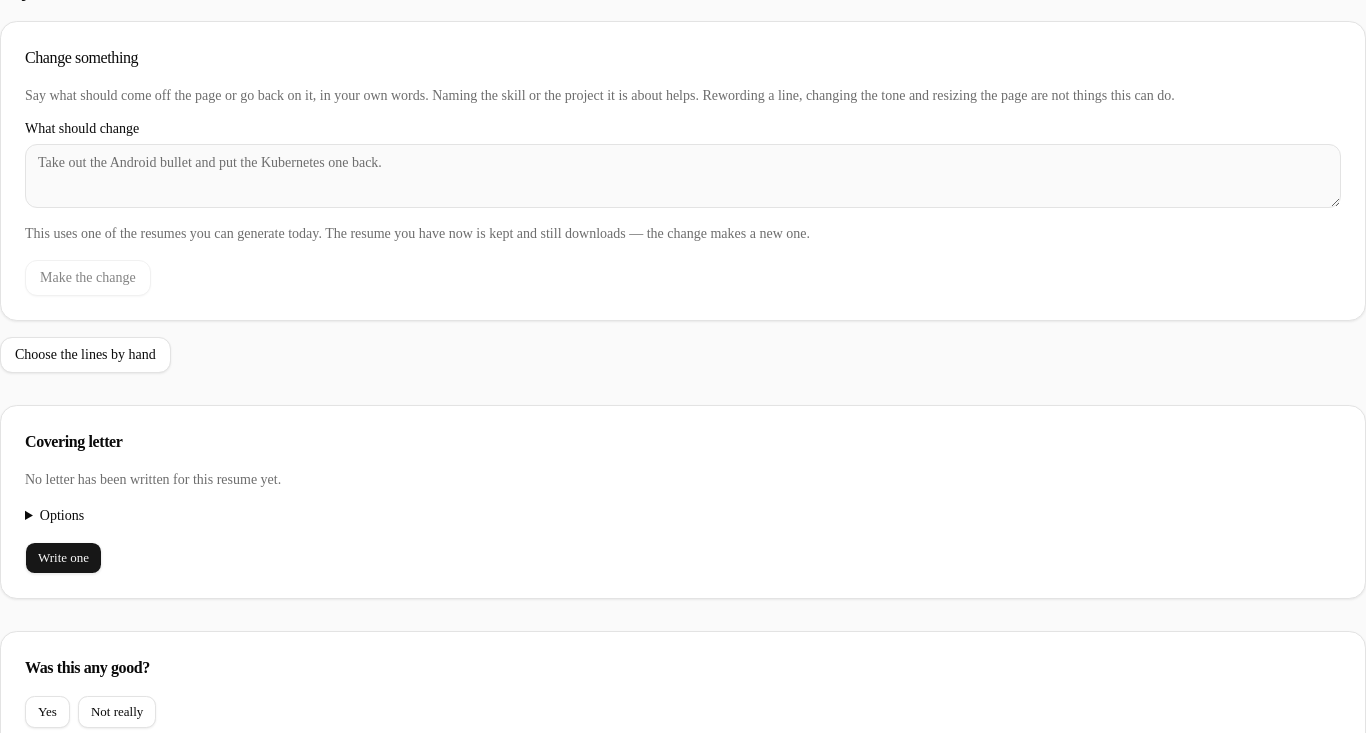
the covering letter › does not dress a refused draft up as a fault
(page scrolled)
Click the button "Write one" at (64, 558), box [25,542,102,574]
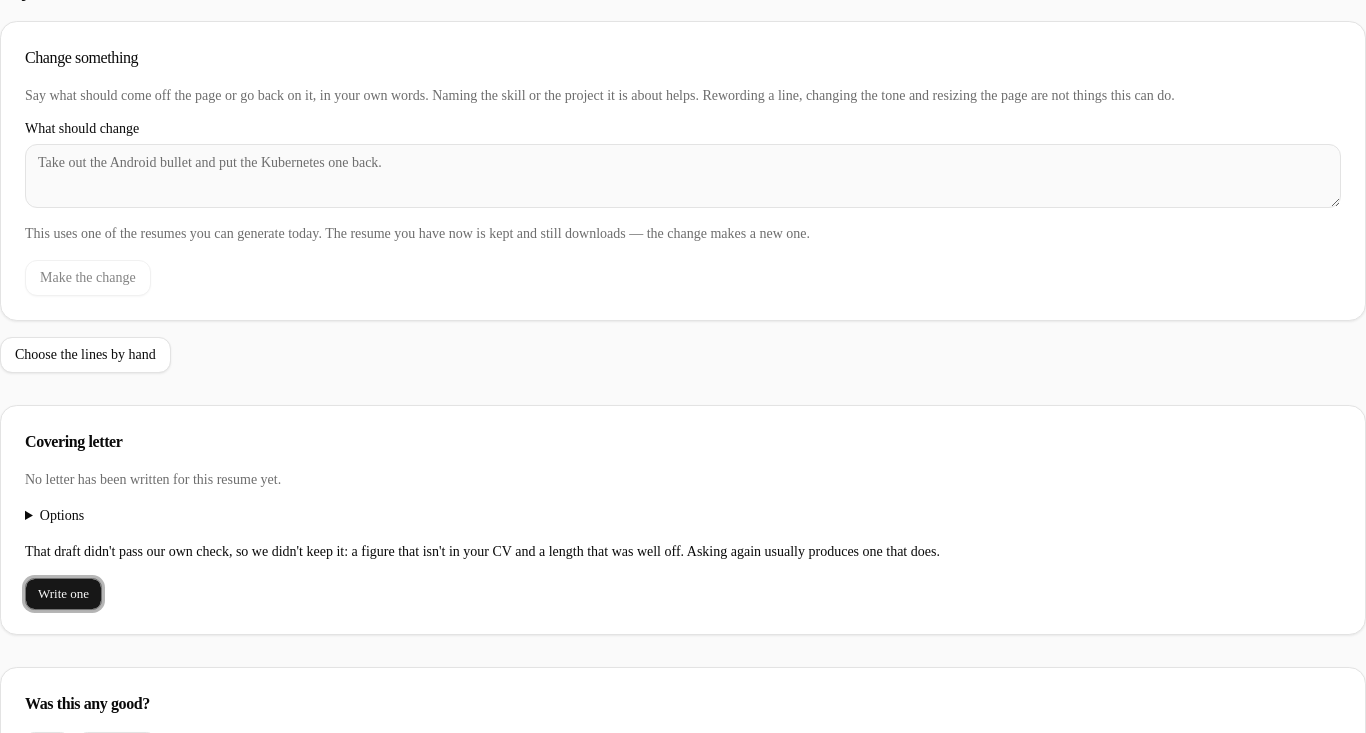
Check: the button "Write one" is shown, box [25,578,102,610]
Check: the message with test id "cover-letter-rejected" shows "That draft didn't pass our own check", box [25,544,940,559]
Check: the message with test id "cover-letter-rejected" shows "a figure that isn't in your CV and a length that was well off", box [25,544,940,559]
